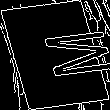M_W: (11, 28, 99, 82)
